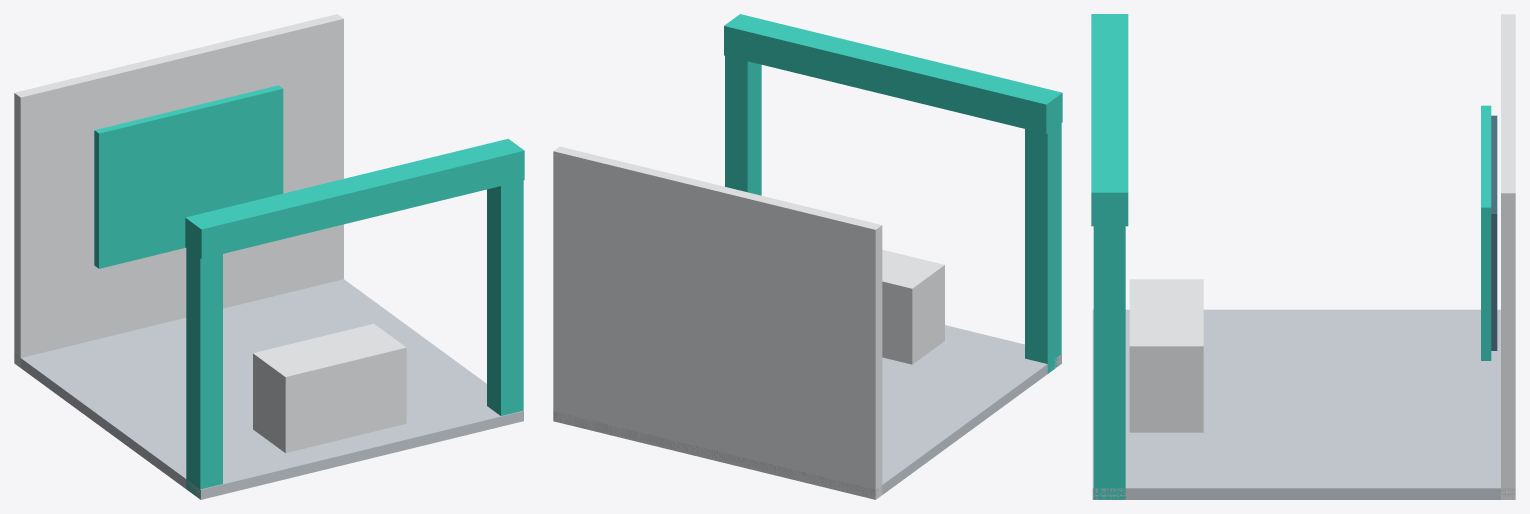
The picture shows the model from 3 angles, left to right: view 1: azimuth 30°, elevation 25°; view 2: azimuth 150°, elevation 25°; view 3: azimuth 270°, elevation 25°; orthographic projection. The views are drawn at different scales.
Visible parts, largest first — view 1: Exhibition Booth Concept; view 2: Exhibition Booth Concept; view 3: Exhibition Booth Concept.
Boxes of the visible parts, bbox=[...] form: Exhibition Booth Concept: bbox=[14, 14, 524, 499]; Exhibition Booth Concept: bbox=[553, 14, 1062, 499]; Exhibition Booth Concept: bbox=[1091, 14, 1515, 499].
Bounding box in the file's own units: 4 × 3.2 × 4.02.
